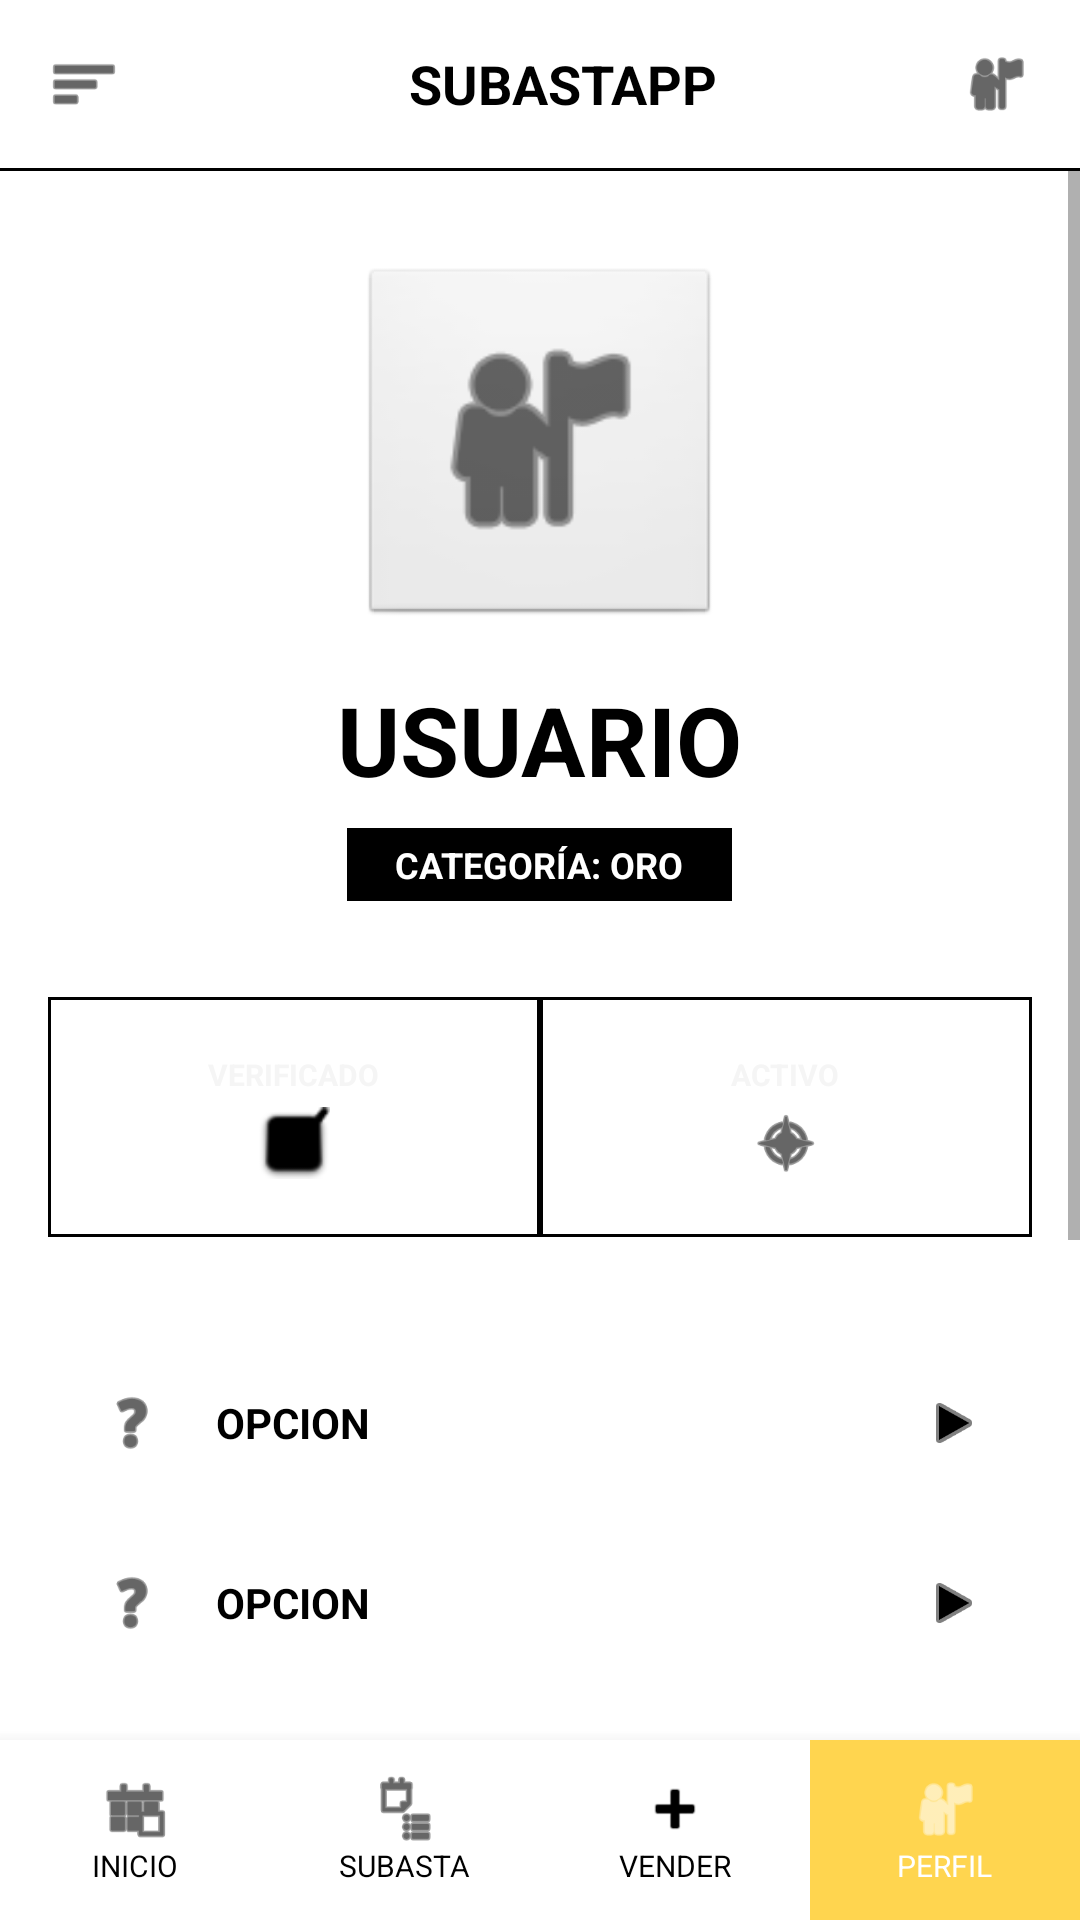

Where to tap for icons on this 1080x1920 app screen, as point (x, y):
add: point (675, 1809)
agenda: point (405, 1809)
compass: point (785, 1143)
help: point (132, 1423), point (132, 1603)
myplaces: point (997, 84), point (540, 439), point (946, 1809)
play: point (954, 1423), point (954, 1603)
sort by size: point (84, 84)
today: point (135, 1810)
